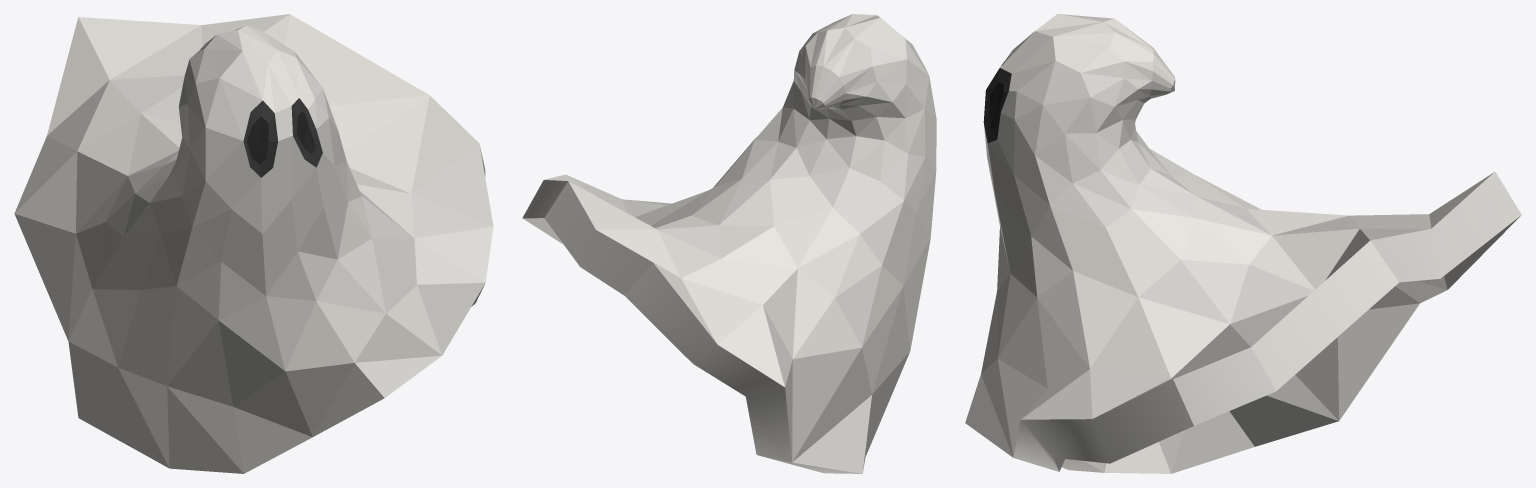
Rendered from WF_LP_HT_Characters_Ghost.002.fbx.
3 renders of one model, left to right at view 1: azimuth 30°, elevation 25°; view 2: azimuth 150°, elevation 25°; view 3: azimuth 270°, elevation 25°, orthographic. The views are drawn at different scales.
Parts seen in each view (by area): view 1: WF_LP_HT_Characters_Ghost.002; view 2: WF_LP_HT_Characters_Ghost.002; view 3: WF_LP_HT_Characters_Ghost.002.
Boxes of the visible parts, x1,y1,x2,y2 form: WF_LP_HT_Characters_Ghost.002: (14,14,493,473); WF_LP_HT_Characters_Ghost.002: (522,14,936,473); WF_LP_HT_Characters_Ghost.002: (965,14,1521,473).
Size of the model in its own units: 1.81 by 2.02 by 2.18.
